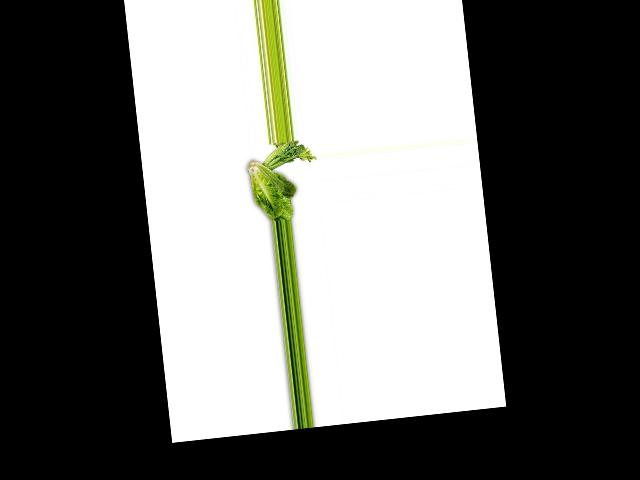lettuce: (248, 152, 304, 223)
